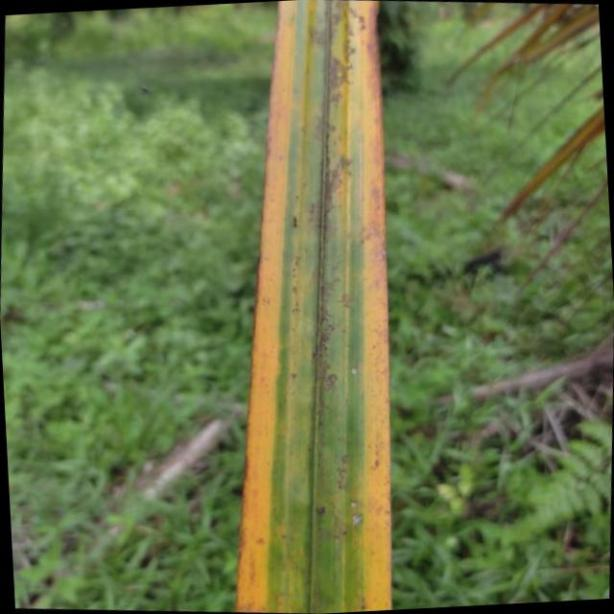Megnesium: (230, 0, 395, 614)
